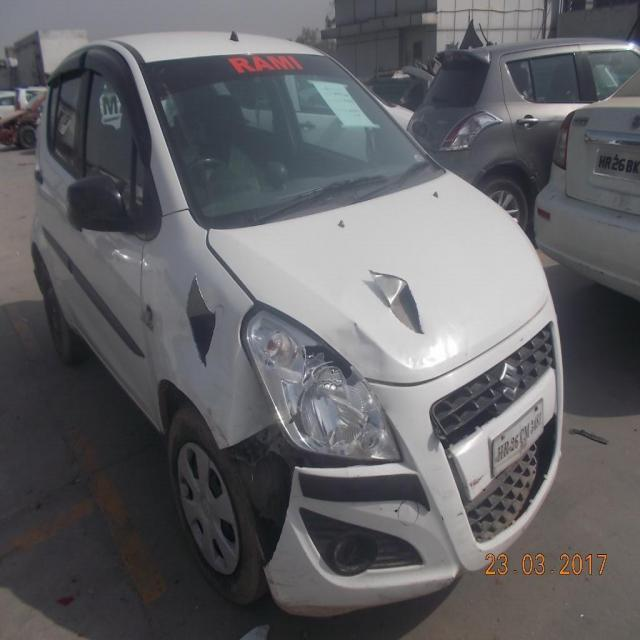damaged: (290, 266, 426, 386), (220, 418, 302, 576), (183, 272, 220, 372)
